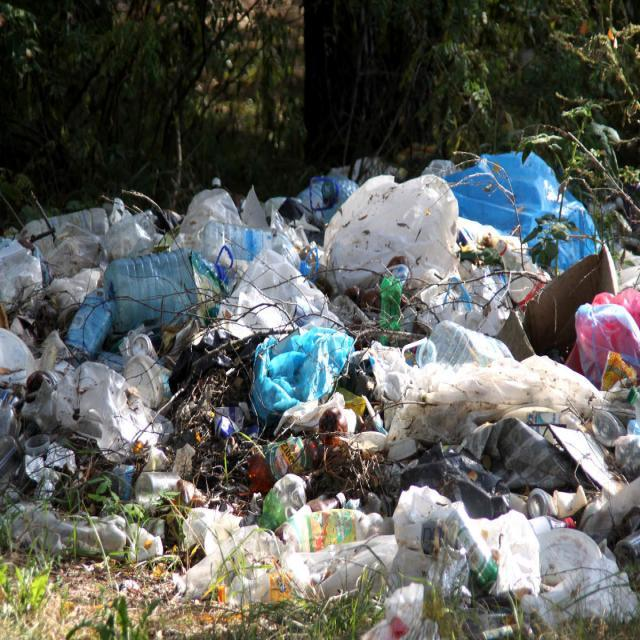trash: (0, 190, 639, 608)
